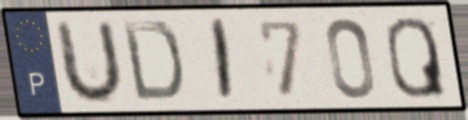0: (323, 15, 378, 102)
7: (257, 19, 305, 101)
D: (119, 18, 186, 105)
I: (210, 16, 236, 105)
Q: (383, 14, 450, 101)
U: (54, 17, 126, 108)
